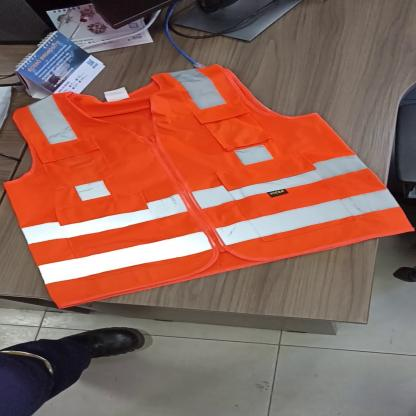colete: (0, 61, 416, 322)
